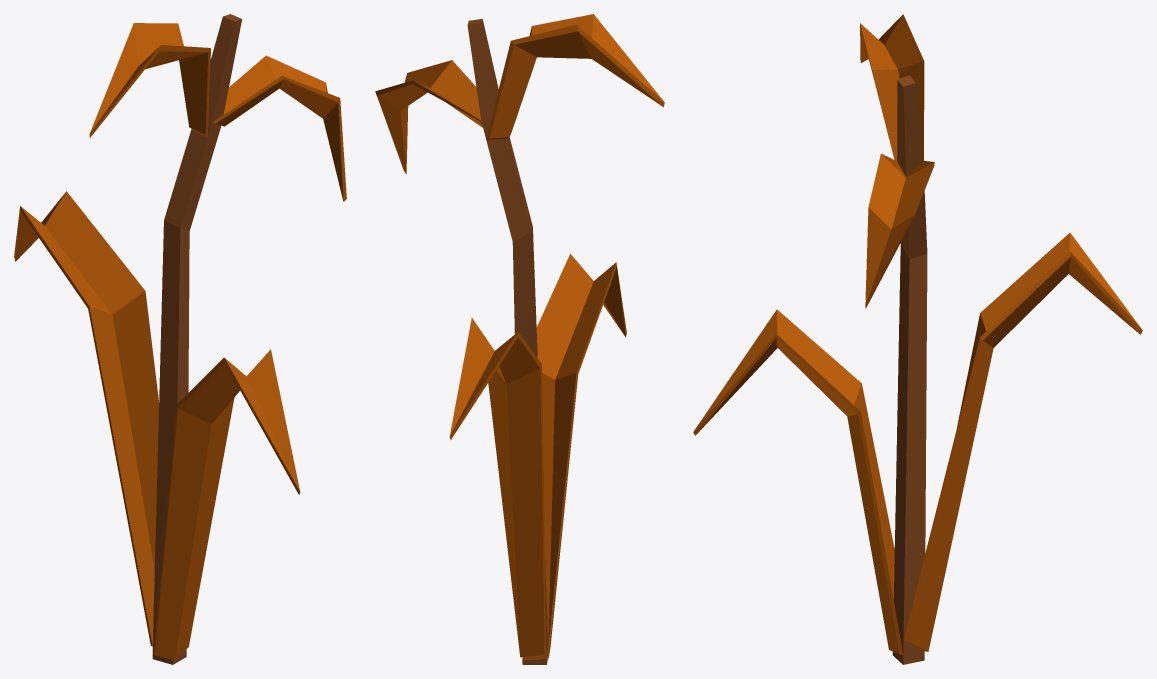
Rendered from Corn_S_Dead.fbx.
3 views of the same model, side by side, from view 1: azimuth 30°, elevation 25°; view 2: azimuth 150°, elevation 25°; view 3: azimuth 270°, elevation 25° (orthographic). The views are drawn at different scales.
Parts seen in each view (by area): view 1: Corn_S_Dead; view 2: Corn_S_Dead; view 3: Corn_S_Dead.
Part boxes in pixels (x1,y1,x2,y2): Corn_S_Dead: [14, 14, 346, 664]; Corn_S_Dead: [375, 14, 664, 664]; Corn_S_Dead: [693, 14, 1142, 664].
Bounding box in the file's own units: 14.91 × 34.91 × 22.73.
